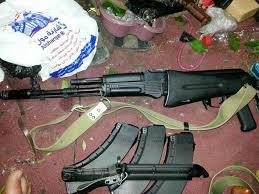Gun: (12, 68, 249, 109), (64, 151, 203, 184)
